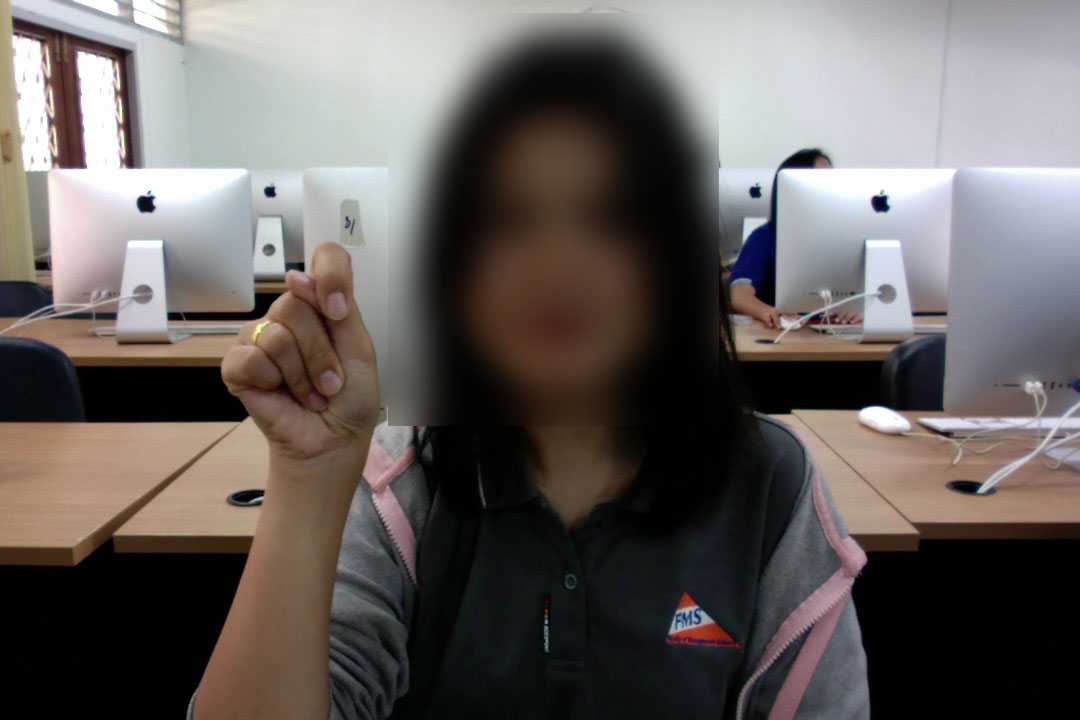tor: (216, 239, 381, 498)
